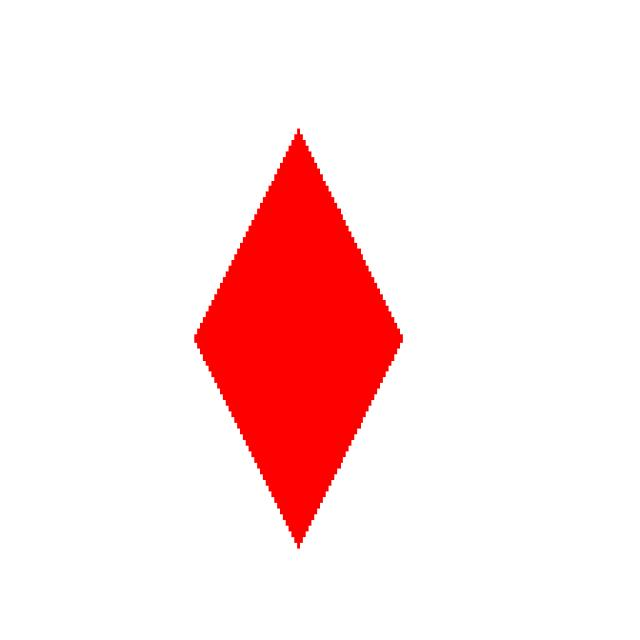Kite: (133, 73, 458, 564)
